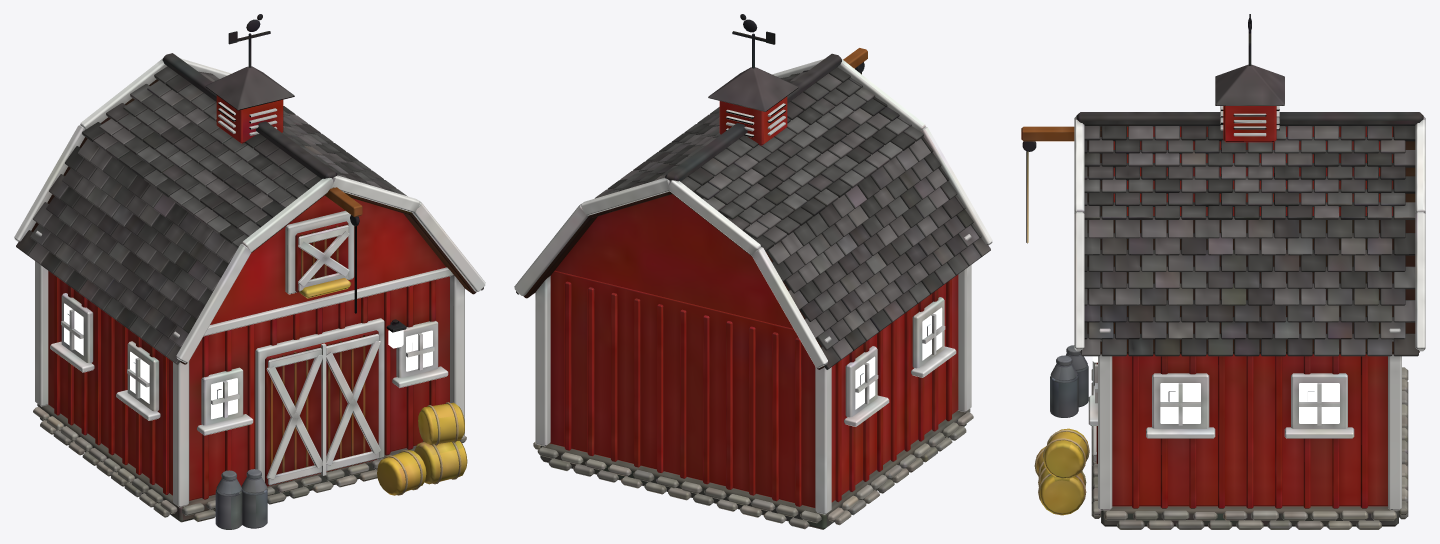
The model's file is barn.glb.
The picture shows the model from 3 angles, left to right: view 1: azimuth 30°, elevation 25°; view 2: azimuth 150°, elevation 25°; view 3: azimuth 270°, elevation 25°; orthographic projection. The views are drawn at different scales.
Parts seen in each view (by area): view 1: barn; view 2: barn; view 3: barn.
Boxes of the visible parts, x1=… form: barn: x1=14, y1=33, x2=485, y2=529; barn: x1=514, y1=33, x2=992, y2=529; barn: x1=1021, y1=31, x2=1425, y2=529.
Size of the model in its own units: 1.84 by 2.41 by 1.98.
1 material, 1 textured.
